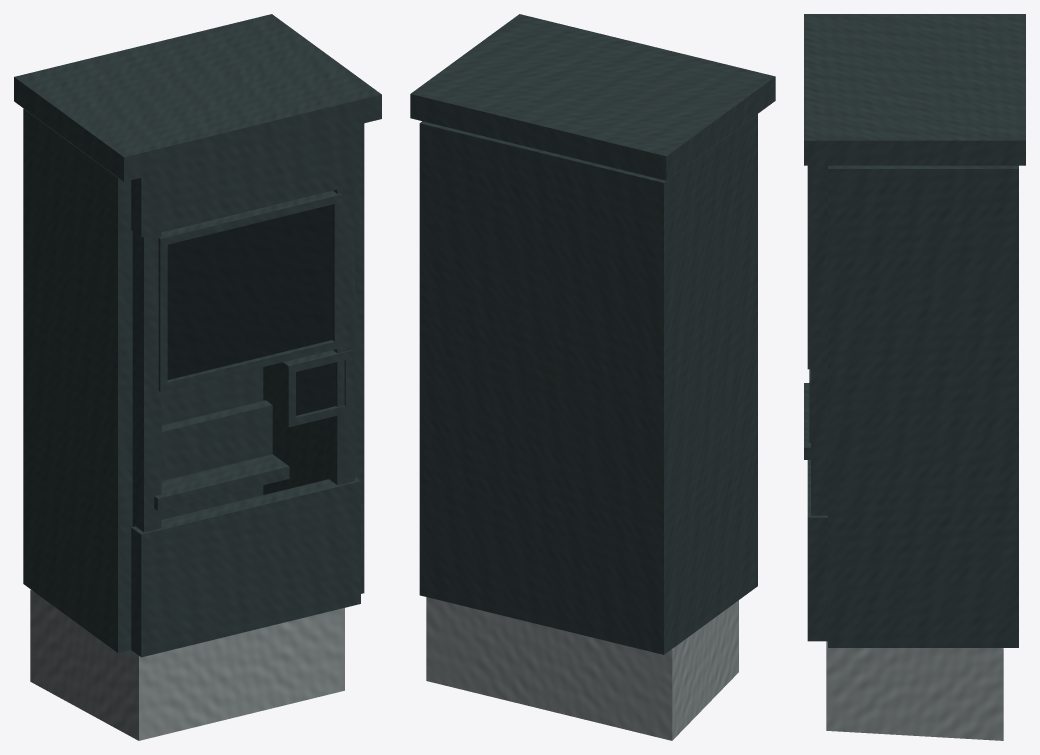
The picture shows the model from 3 angles, left to right: view 1: azimuth 30°, elevation 25°; view 2: azimuth 150°, elevation 25°; view 3: azimuth 270°, elevation 25°; orthographic projection.
Parts seen in each view (by area): view 1: B023-06_frame_iron, B023-06_shell_iron, B023-06_base_steel, B023-06_display_dark, B023-06_housing_iron; view 2: B023-06_shell_iron, B023-06_frame_iron, B023-06_base_steel; view 3: B023-06_shell_iron, B023-06_frame_iron, B023-06_base_steel, B023-06_housing_iron.
Part boxes in pixels (x1,y1,x2,y2): B023-06_frame_iron: (14, 14, 381, 657); B023-06_shell_iron: (23, 108, 364, 652); B023-06_base_steel: (30, 589, 344, 740); B023-06_display_dark: (167, 204, 335, 415); B023-06_housing_iron: (158, 190, 352, 427); B023-06_shell_iron: (419, 114, 757, 654); B023-06_frame_iron: (410, 14, 775, 180); B023-06_base_steel: (426, 597, 738, 740); B023-06_shell_iron: (828, 165, 1018, 647); B023-06_frame_iron: (804, 14, 1025, 641); B023-06_base_steel: (826, 641, 1003, 740); B023-06_housing_iron: (807, 218, 810, 442).
Size of the model in its own units: 0.88 by 1.95 by 0.65.
3 materials, 3 textured.
